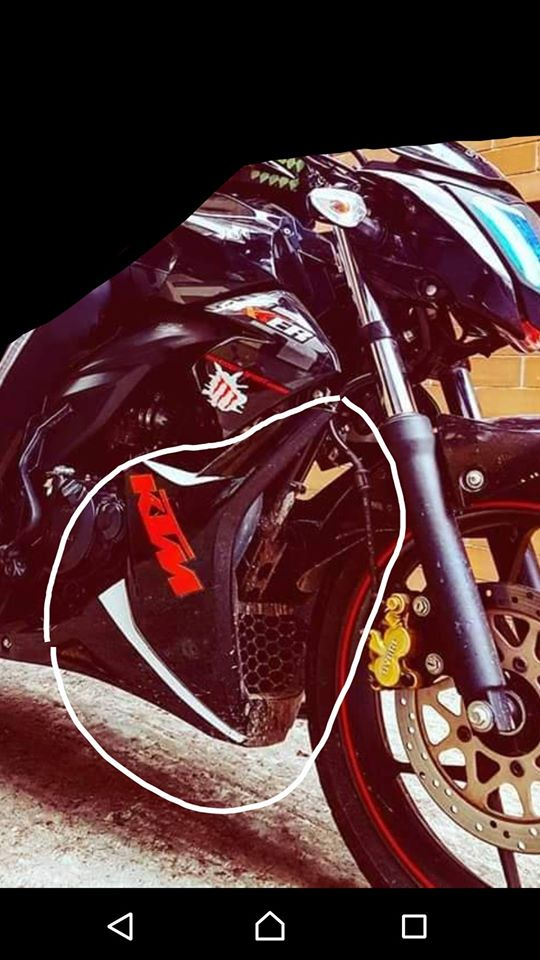bike: (1, 138, 538, 892)
